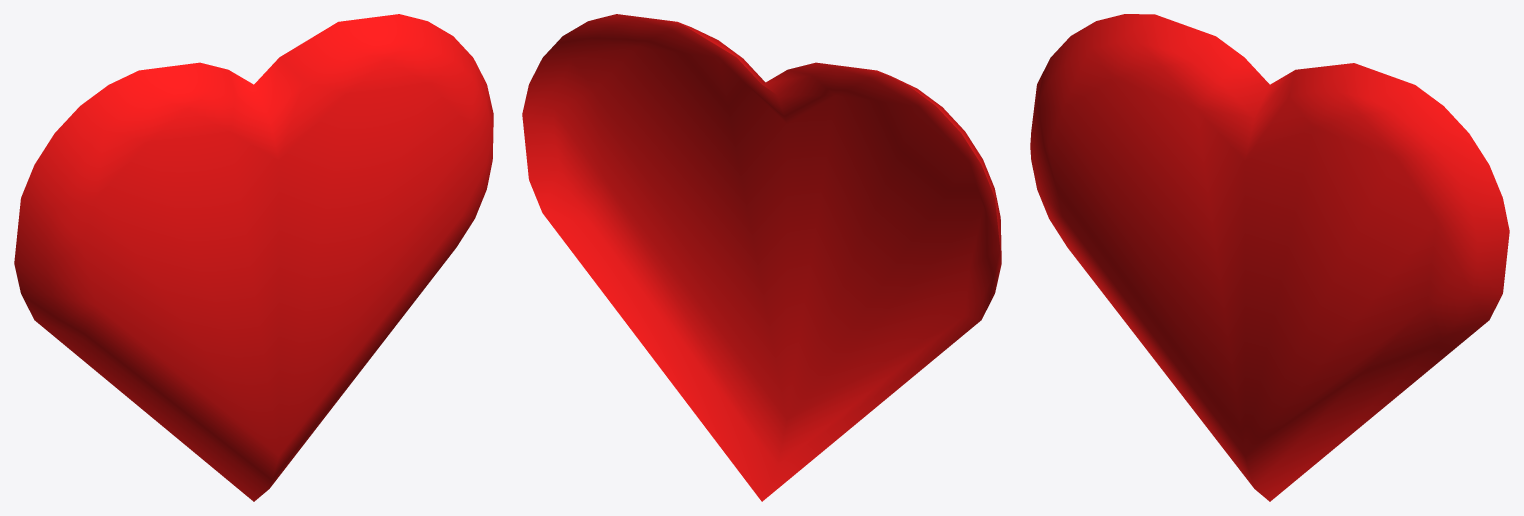
File: Corazon-vida.fbx
3 views of the same model, side by side, from view 1: azimuth 30°, elevation 25°; view 2: azimuth 150°, elevation 25°; view 3: azimuth 330°, elevation 25° (orthographic).
Visible parts, largest first — view 1: Circle003; view 2: Circle003; view 3: Circle003.
Part boxes in pixels (box(x1,y1,x2,y2)): Circle003: box(14, 14, 493, 501); Circle003: box(522, 14, 1001, 501); Circle003: box(1030, 14, 1509, 501).
Size of the model in its own units: 1.22 by 1.12 by 0.1109.
